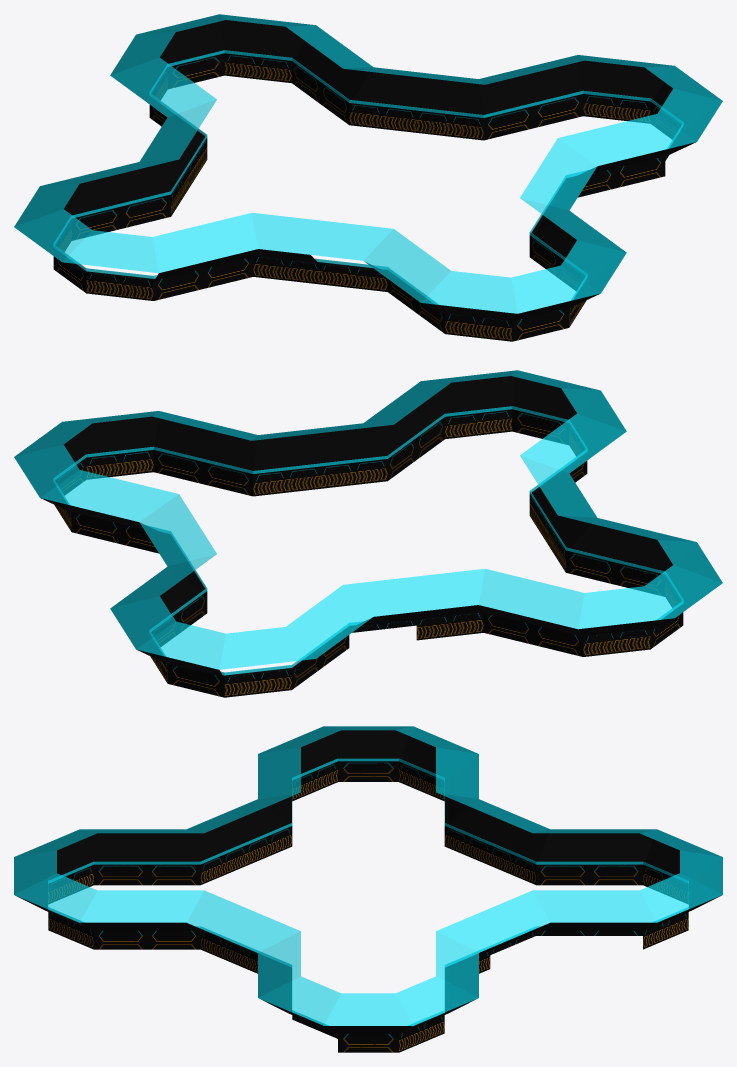
Rendered from walls_exp.fbx.
3 views of the same model, one above another, from view 1: azimuth 30°, elevation 25°; view 2: azimuth 150°, elevation 25°; view 3: azimuth 270°, elevation 25° (orthographic). The views are drawn at different scales.
Visible parts, largest first — view 1: wallAng02l01.020, wallAng02l01, wallAng01l01.016, wallAng01l01.006, wallAng02l01.023, wallAng02l01.013, wallAng01l01.017, wallAng01l01.028, wallAng01l01.027, wallAng01l01.009, wallAng02l01.004, wallAng02l01.014 (+55 smaller); view 2: wallAng02l01.016, wallAng02l01.006, wallAng01l01.020, wallAng01l01, wallAng02l01.013, wallAng02l01.023, wallAng01l01.010, wallAng01l01.021, wallAng01l01.009, wallAng01l01.027, wallAng02l01.007, wallAng02l01.024 (+54 smaller); view 3: wallAng01l01.013, wallAng01l01.023, wallAng02l01.009, wallAng02l01.027, wallAng01l01.004, wallAng02l01.018, wallAng01l01.003, wallAng01l01.007, wallAng01l01.014, wallAng01l01.024, wallAng02l01.010, wallAng02l01.028 (+52 smaller).
Boxes of the visible parts, x1,y1,x2,y2 form: wallAng02l01.020: (558,114,696,165); wallAng02l01: (152,213,258,272); wallAng01l01.016: (479,55,582,114); wallAng01l01.006: (40,162,166,217); wallAng02l01.023: (110,57,216,117); wallAng02l01.013: (363,229,450,302); wallAng01l01.017: (578,55,674,99); wallAng01l01.028: (219,14,315,59); wallAng01l01.027: (294,25,373,100); wallAng01l01.009: (534,211,626,276); wallAng02l01.004: (63,230,158,273); wallAng02l01.014: (421,271,517,313); wallAng02l01.016: (40,470,178,521); wallAng02l01.006: (478,569,584,628); wallAng01l01.020: (154,411,257,470); wallAng01l01: (570,518,696,573); wallAng02l01.013: (520,413,626,473); wallAng02l01.023: (286,585,373,658); wallAng01l01.010: (421,370,517,415); wallAng01l01.021: (62,411,158,455); wallAng01l01.009: (363,381,442,456); wallAng01l01.027: (110,567,202,632); wallAng02l01.007: (578,586,673,629); wallAng02l01.024: (219,627,315,669); wallAng01l01.013: (80,829,198,862); wallAng01l01.023: (538,829,656,862); wallAng02l01.009: (80,890,203,922); wallAng02l01.027: (533,890,656,922); wallAng01l01.004: (324,726,412,758); wallAng02l01.018: (324,993,412,1025); wallAng01l01.003: (258,726,335,779); wallAng01l01.007: (401,726,478,779); wallAng01l01.014: (14,829,91,882); wallAng01l01.024: (645,829,722,882); wallAng02l01.010: (14,873,97,922); wallAng02l01.028: (639,873,722,922).
Size of the model in its own units: 9300 by 805 by 9300.
